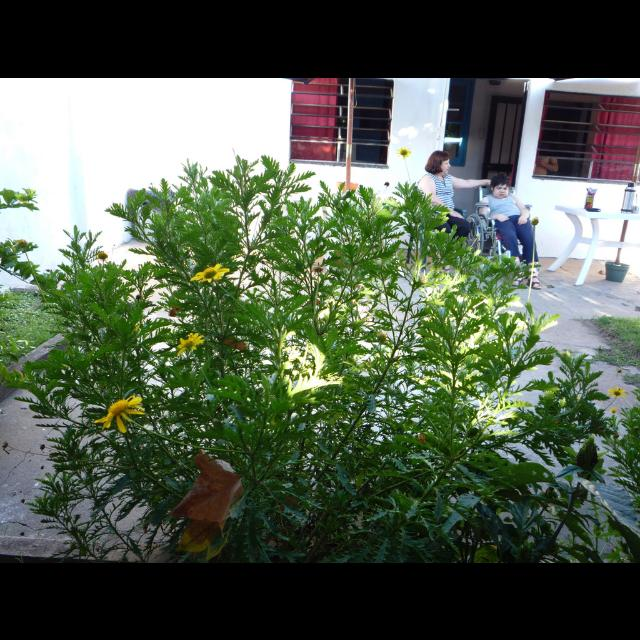Flower: (96, 394, 144, 431), (190, 260, 230, 284), (180, 328, 206, 354), (604, 385, 626, 399), (96, 248, 108, 260), (398, 145, 410, 157), (610, 404, 618, 414)
